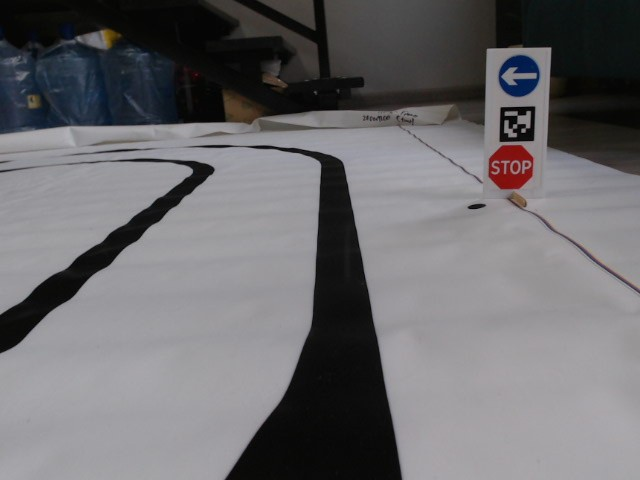Stop: (488, 143, 535, 190)
